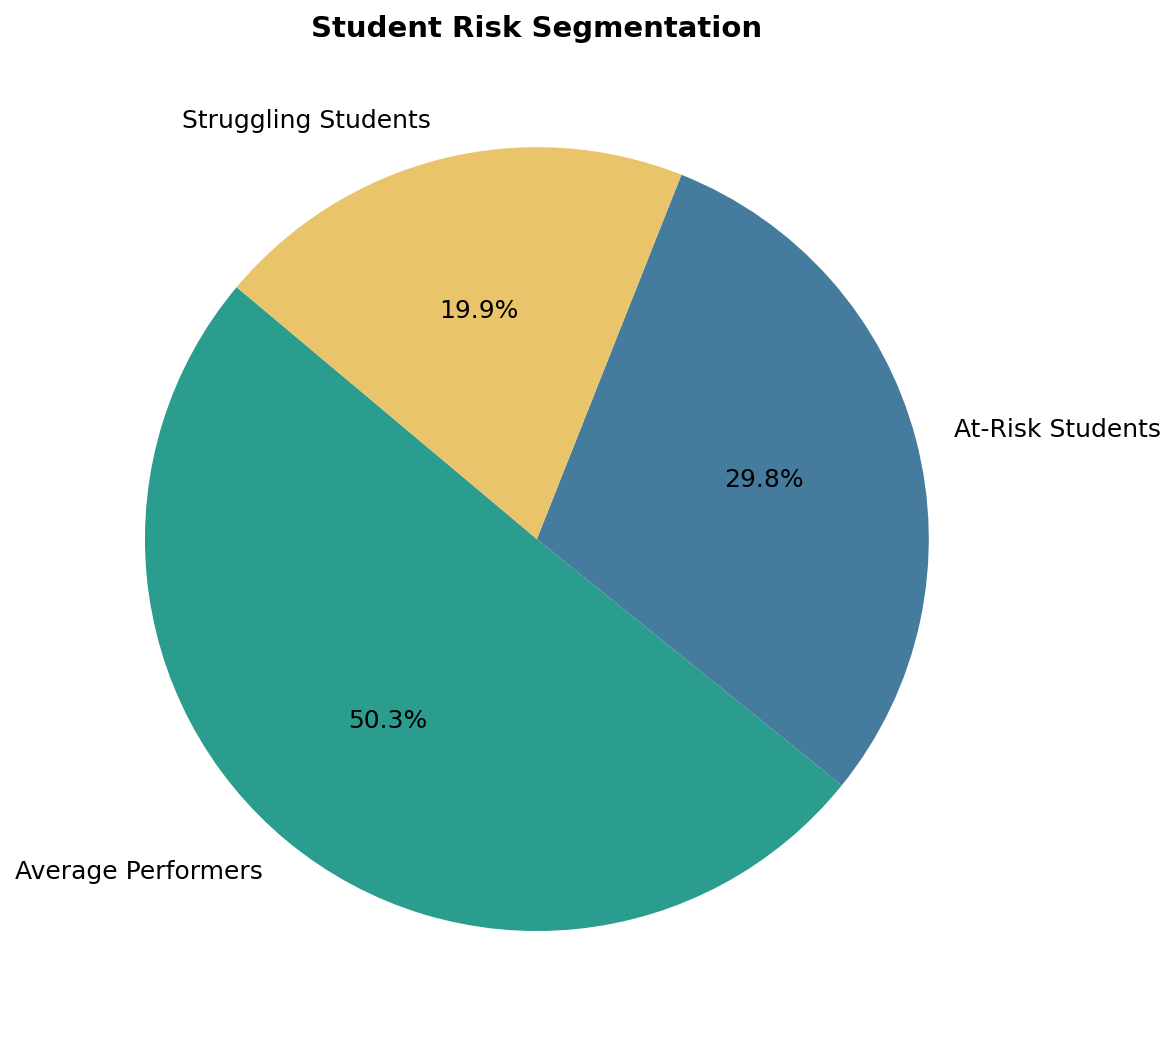

Layout of this report page (visuals, bound fields, positions):
{"tool":"powerbi","page":{"name":"Page 1","canvas":[1280,720],"ordinal":0},"visuals":[{"type":"pieChart","fields":{"Category":["1_Student_Analytics.Academic_Result"],"Y":["1_Student_Analytics.Total Students"]},"box":[0,0,1280.5,720],"z":0}]}

Visuals, with their boxes on the page's 1280x720 design canvas (x1, y1, x2, y2). These are canvas units, not pixel positions in the 1175x1044 screenshot, which may show the page scaled, cropped or inside an application window:
pieChart - 1_Student_Analytics.Academic_Result x 1_Student_Analytics.Total Students: [0,0,1280,720]
